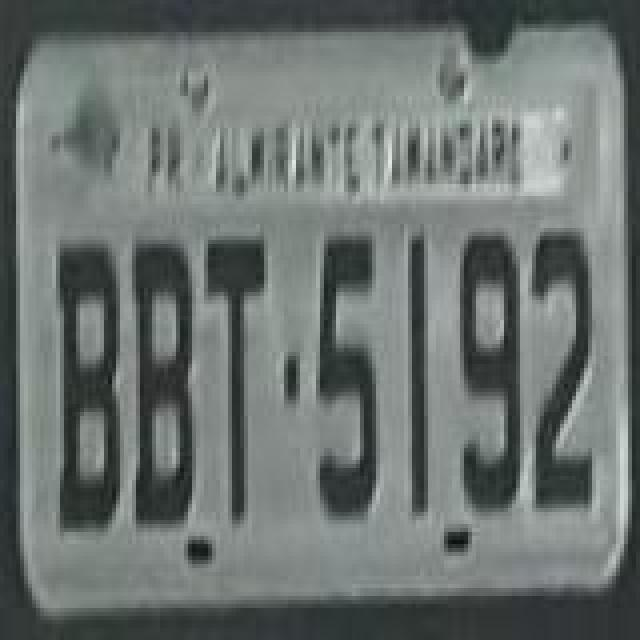1: (406, 232, 434, 520)
2: (526, 224, 594, 512)
5: (316, 230, 380, 522)
9: (454, 232, 522, 520)
B: (54, 234, 122, 534), (132, 238, 196, 530)
T: (204, 234, 268, 526)
